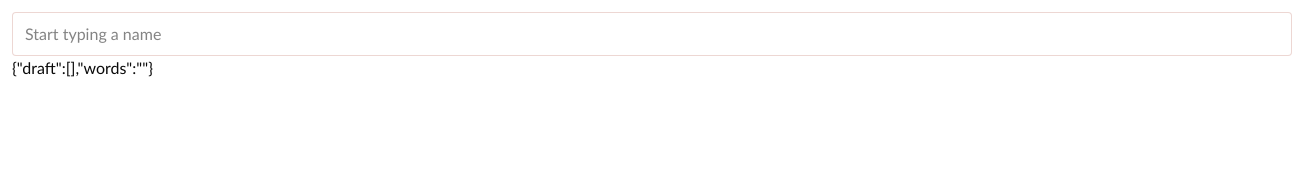
the autocomplete (D3) › the use-as-typed row disappears once a typed name is in the list
Later steps or results of the test are not shown.
Type "Zzz Corner" into the dropdown at point(652, 34), box [12,12,1292,56]
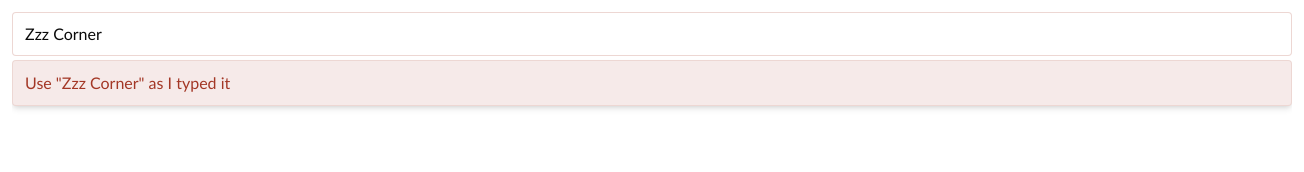
Press the mouse on the option with test id "brew-field-cupboard_coffee-option-typed" at point(128, 82), box [13,61,1291,105]
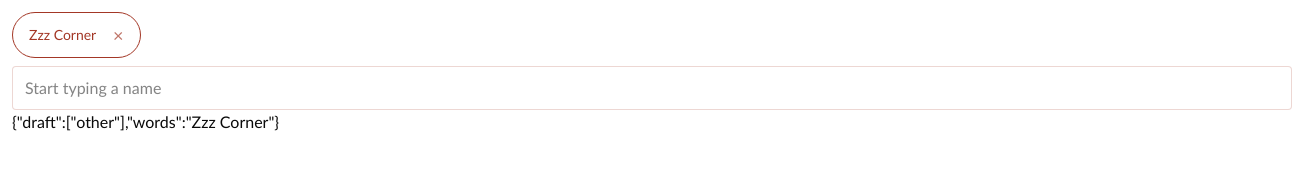
expect the element with test id "brew-field-cupboard_coffee-chip-other" shows "Zzz Corner": met, box [29,26,96,43]
